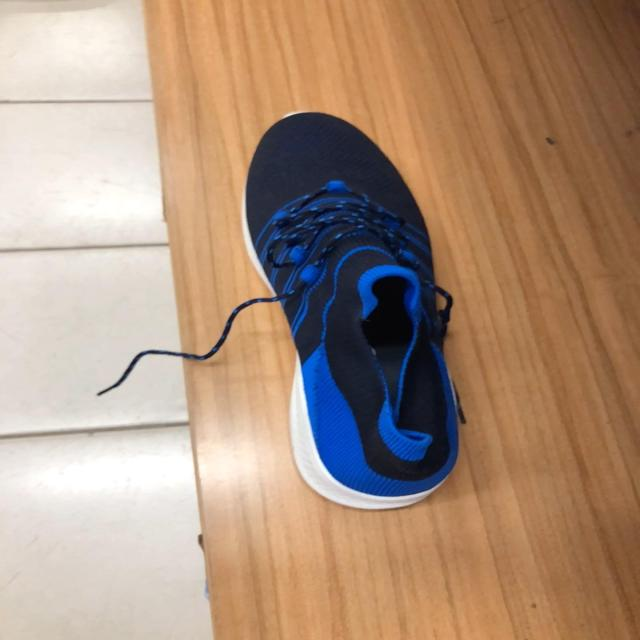shoe: (243, 112, 464, 513)
